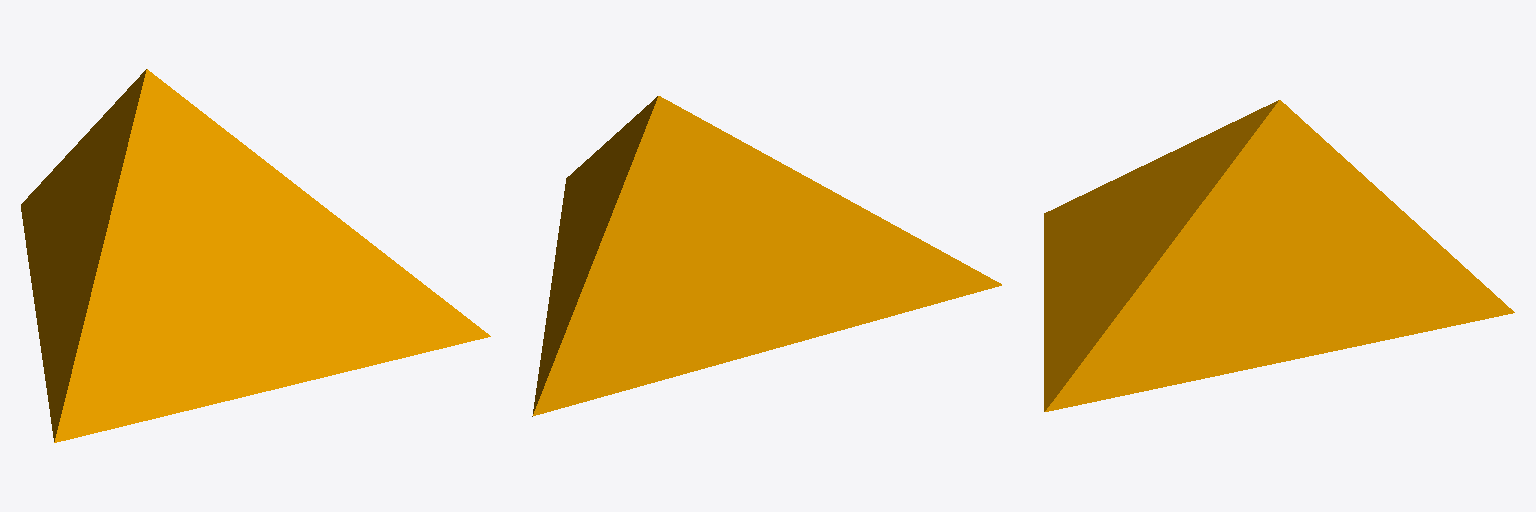
URDF robot description (mountain):
<?xml version="1.0"?>
<robot name="mountain">
  <link name="baseLink">
    <inertial>
      <origin xyz="0 0 0" rpy="0 0 0"/>
      <mass value="1"/>
      <inertia ixx="1" ixy="0" ixz="0" iyy="1" iyz="0" izz="1"/>
    </inertial>
    <visual>
      <origin xyz="0 0 0" rpy="0 0 0"/>
      <geometry>
        <mesh filename="mountain.obj" scale="1 1 1"/>
      </geometry>
    </visual>
    <collision>
      <origin xyz="0 0 0" rpy="0 0 0"/>
      <geometry>
        <mesh filename="mountain.obj" scale="1 1 1"/>
      </geometry>
    </collision>
  </link>
</robot>

--- Render facts (derived) ---
3 views of the same robot in one strip: view 1: azimuth 30°, elevation 25°; view 2: azimuth 150°, elevation 25°; view 3: azimuth 270°, elevation 25° (orthographic).
Robot: mountain — 1 links, 0 joints (none); root link baseLink; default pose: every joint at zero.
Visible links, largest first — view 1: baseLink; view 2: baseLink; view 3: baseLink.
Link boxes in pixels (left/top/right/bottom): baseLink: left=21, top=69, right=490, bottom=442; baseLink: left=532, top=96, right=1001, bottom=416; baseLink: left=1044, top=100, right=1514, bottom=411.
Bounding box of the posed robot: 10 × 10 × 5 m (x, y, z).
Meshes: 1 distinct files referenced, 1 mesh visuals loaded (1 OBJ).